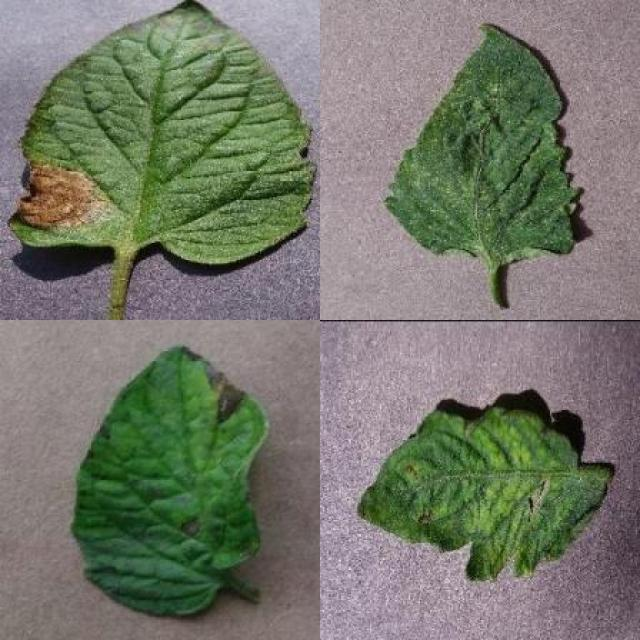Early Blight: (70, 341, 269, 623)
Late Blight: (5, 0, 320, 264)
Mosaic Virus: (354, 404, 609, 584)
Spider Mites: (384, 25, 584, 268)
